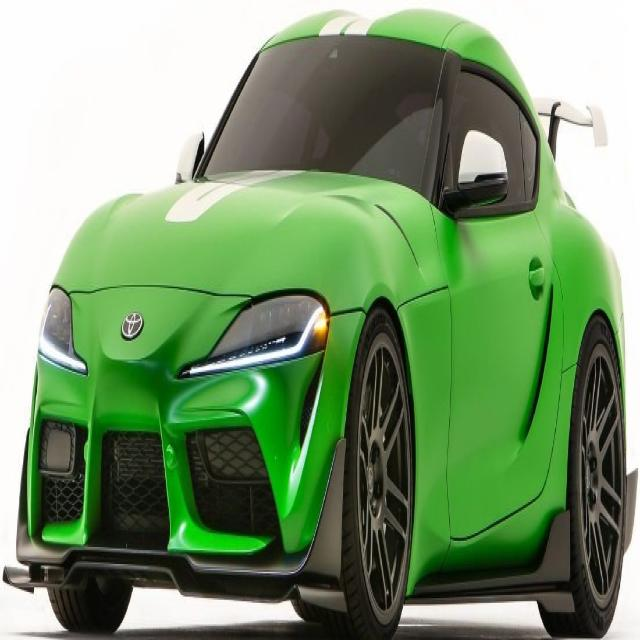green: (2, 2, 638, 636)
